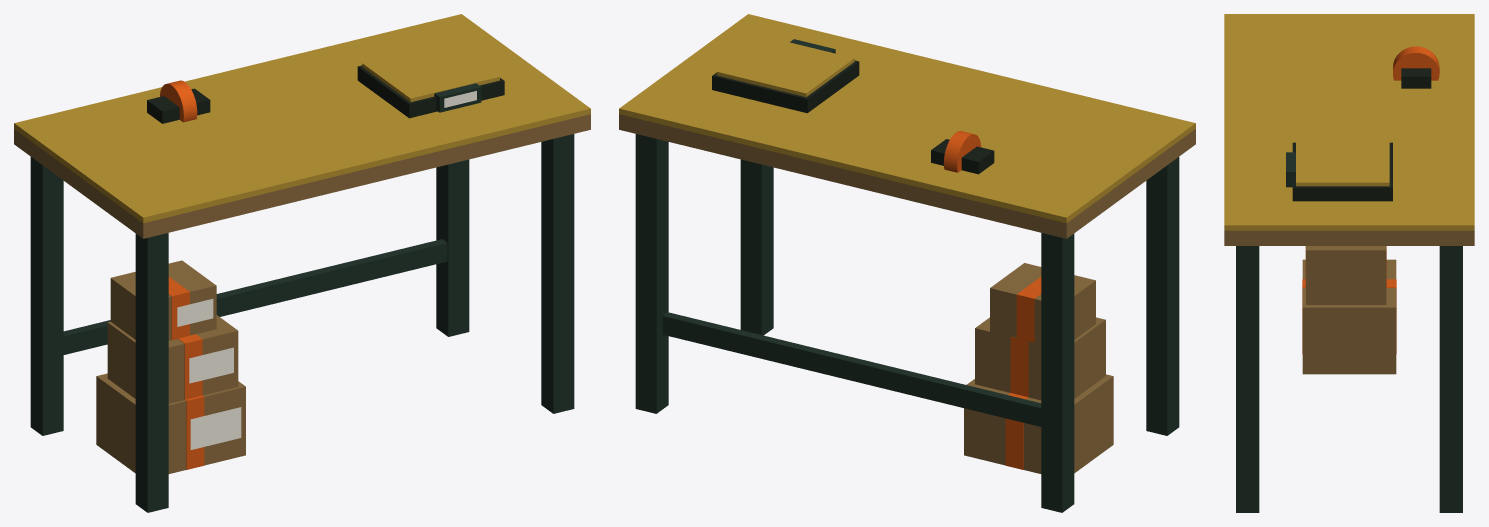
The model's file is shipping-station.glb.
3 renders of one model, left to right at view 1: azimuth 30°, elevation 25°; view 2: azimuth 150°, elevation 25°; view 3: azimuth 270°, elevation 25°, orthographic. The views are drawn at different scales.
Parts seen in each view (by area): view 1: table_edge, table_top, leg_fl, leg_fr, leg_bl, table_rail, parcel_1, leg_br, scale_platter, parcel_2, parcel_3, scale_base (+9 smaller); view 2: table_edge, table_top, leg_bl, table_rail, leg_br, leg_fl, parcel_1, leg_fr, parcel_2, scale_platter, parcel_3, scale_base (+5 smaller); view 3: table_edge, parcel_1, leg_fr, leg_br, parcel_2, scale_platter, table_top, scale_base, tape_roll, tape_base, scale_readout.
Boxes of the visible parts, x1,y1,x2,y2 form: table_edge: (14,14,590,223); table_top: (14,114,590,238); leg_fl: (135,233,168,512); leg_fr: (541,134,574,413); leg_bl: (30,157,63,435); table_rail: (63,239,447,354); parcel_1: (96,373,245,473); leg_br: (436,159,469,336); scale_platter: (362,41,499,102); parcel_2: (107,315,238,403); parcel_3: (110,260,216,340); scale_base: (357,65,504,118); table_edge: (619,14,1195,223); table_top: (619,114,1195,238); leg_bl: (1041,233,1074,512); table_rail: (662,312,1041,426); leg_br: (635,134,668,413); leg_fl: (1146,157,1179,435); parcel_1: (964,374,1113,473); leg_fr: (740,159,773,335); parcel_2: (975,317,1105,400); scale_platter: (716,36,854,96); parcel_3: (990,263,1095,343); scale_base: (712,60,859,113); table_edge: (1224,14,1474,230); parcel_1: (1302,259,1396,374); leg_fr: (1236,246,1259,512); leg_br: (1439,246,1462,512); parcel_2: (1306,246,1386,304); scale_platter: (1296,140,1389,186); table_top: (1224,230,1474,245); scale_base: (1292,142,1392,201); tape_roll: (1393,46,1439,80); tape_base: (1401,68,1431,88); scale_readout: (1286,152,1295,187).
Size of the model in its own units: 1.5 by 1.06 by 0.75.
